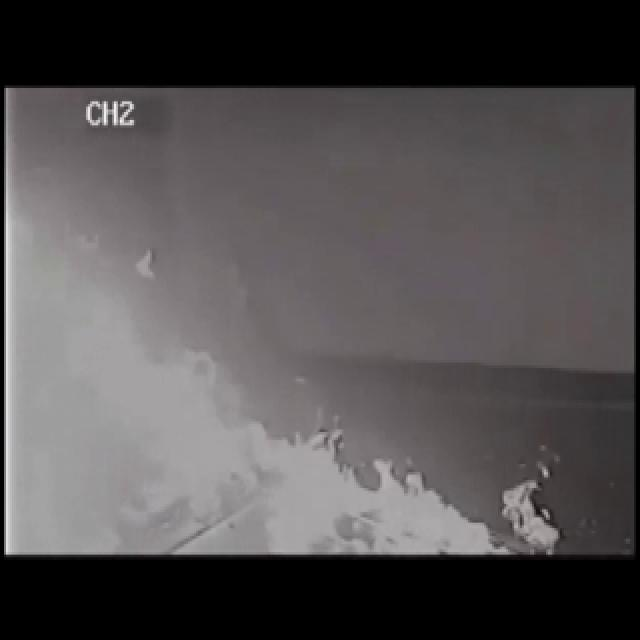arson: (2, 95, 565, 557)
